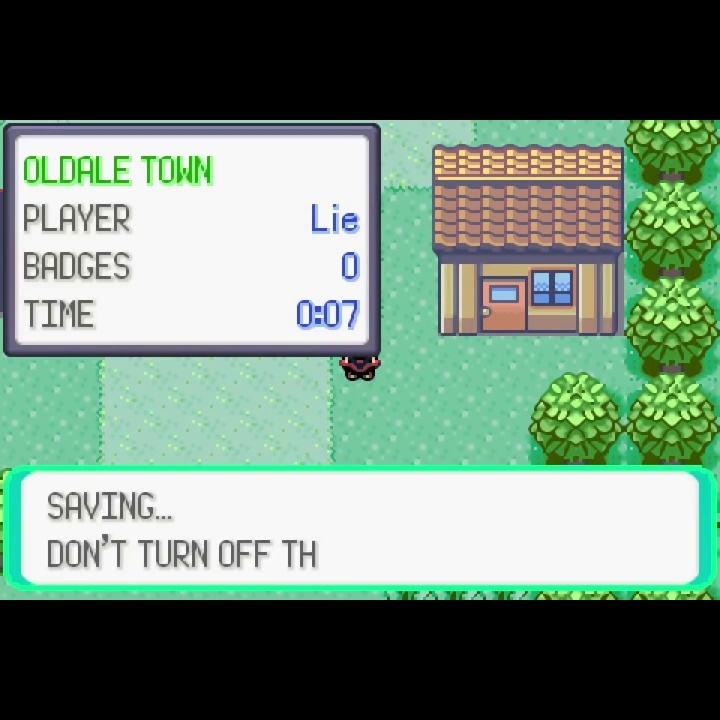house: (428, 141, 627, 341)
wall: (623, 181, 720, 287), (625, 276, 720, 382), (529, 371, 624, 465), (625, 372, 720, 465), (625, 120, 720, 187)
